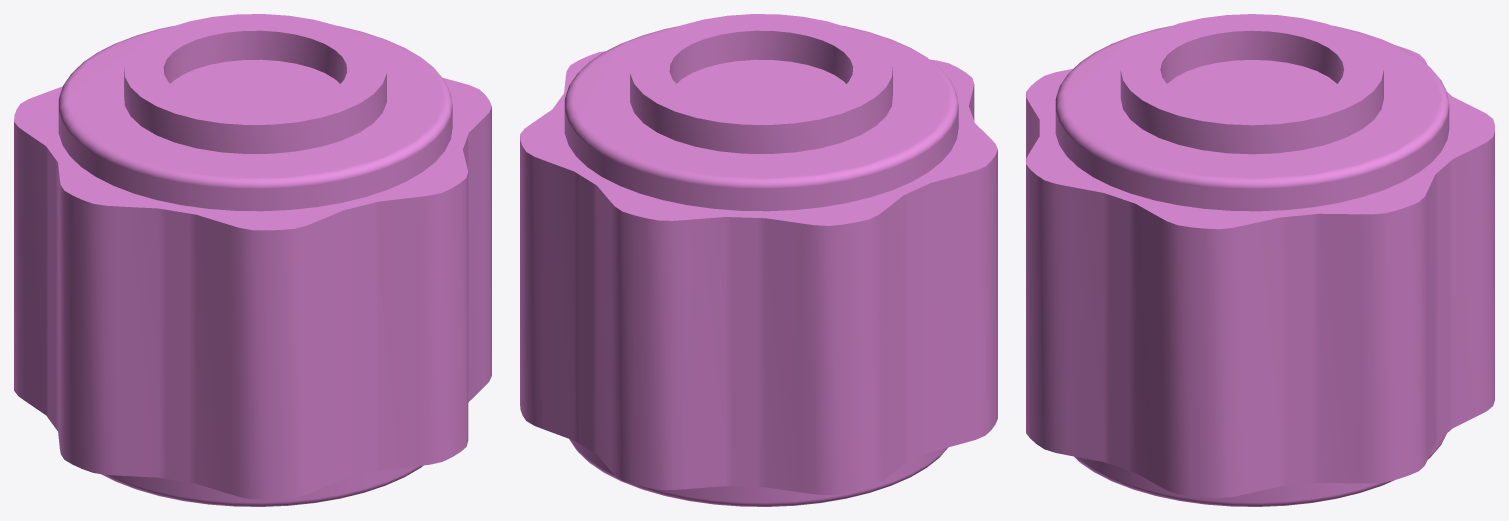
The picture shows the model from 3 angles, left to right: view 1: azimuth 30°, elevation 25°; view 2: azimuth 150°, elevation 25°; view 3: azimuth 270°, elevation 25°; orthographic projection.
Parts seen in each view (by area): view 1: Object_2; view 2: Object_2; view 3: Object_2.
Boxes of the visible parts, x1,y1,x2,y2 form: Object_2: [14, 14, 491, 506]; Object_2: [520, 14, 997, 506]; Object_2: [1026, 14, 1494, 506].
Size of the model in its own units: 21.46 by 17.63 by 21.
